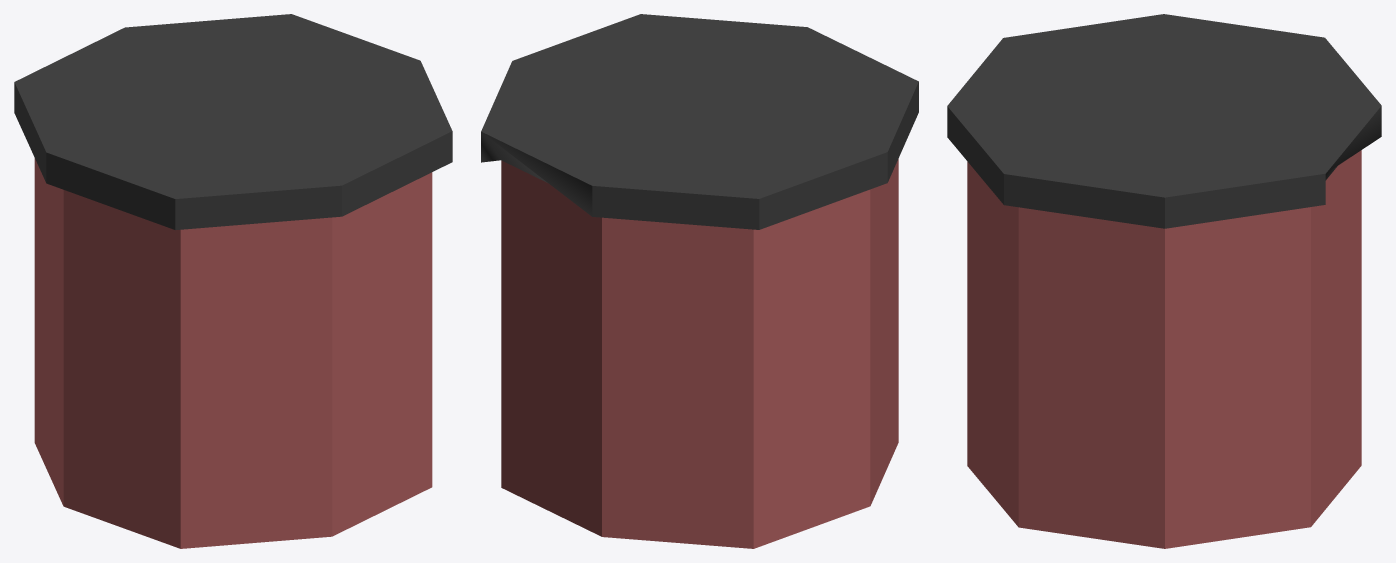
File: Jar_6.fbx
The picture shows the model from 3 angles, left to right: view 1: azimuth 30°, elevation 25°; view 2: azimuth 150°, elevation 25°; view 3: azimuth 270°, elevation 25°; orthographic projection.
Parts seen in each view (by area): view 1: Jar_6; view 2: Jar_6; view 3: Jar_6.
Boxes of the visible parts, <box> form: Jar_6: <box>14,14,452,548</box>; Jar_6: <box>481,14,918,548</box>; Jar_6: <box>947,14,1381,548</box>.
Bounding box in the file's own units: 23.48 × 23.48 × 21.46.
